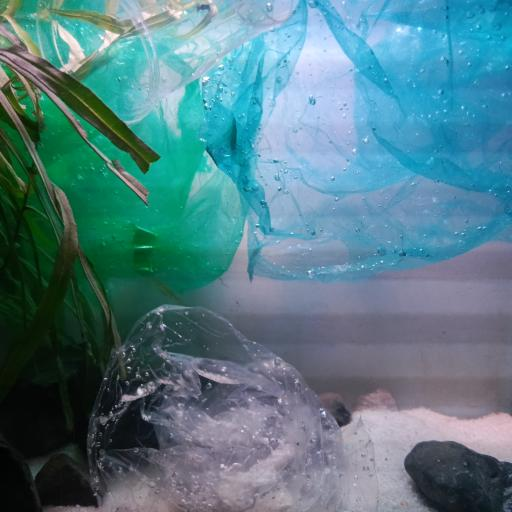plastic_bag: (198, 0, 512, 280), (0, 0, 248, 293), (84, 300, 377, 512)
plastic_cup: (36, 0, 293, 122)
